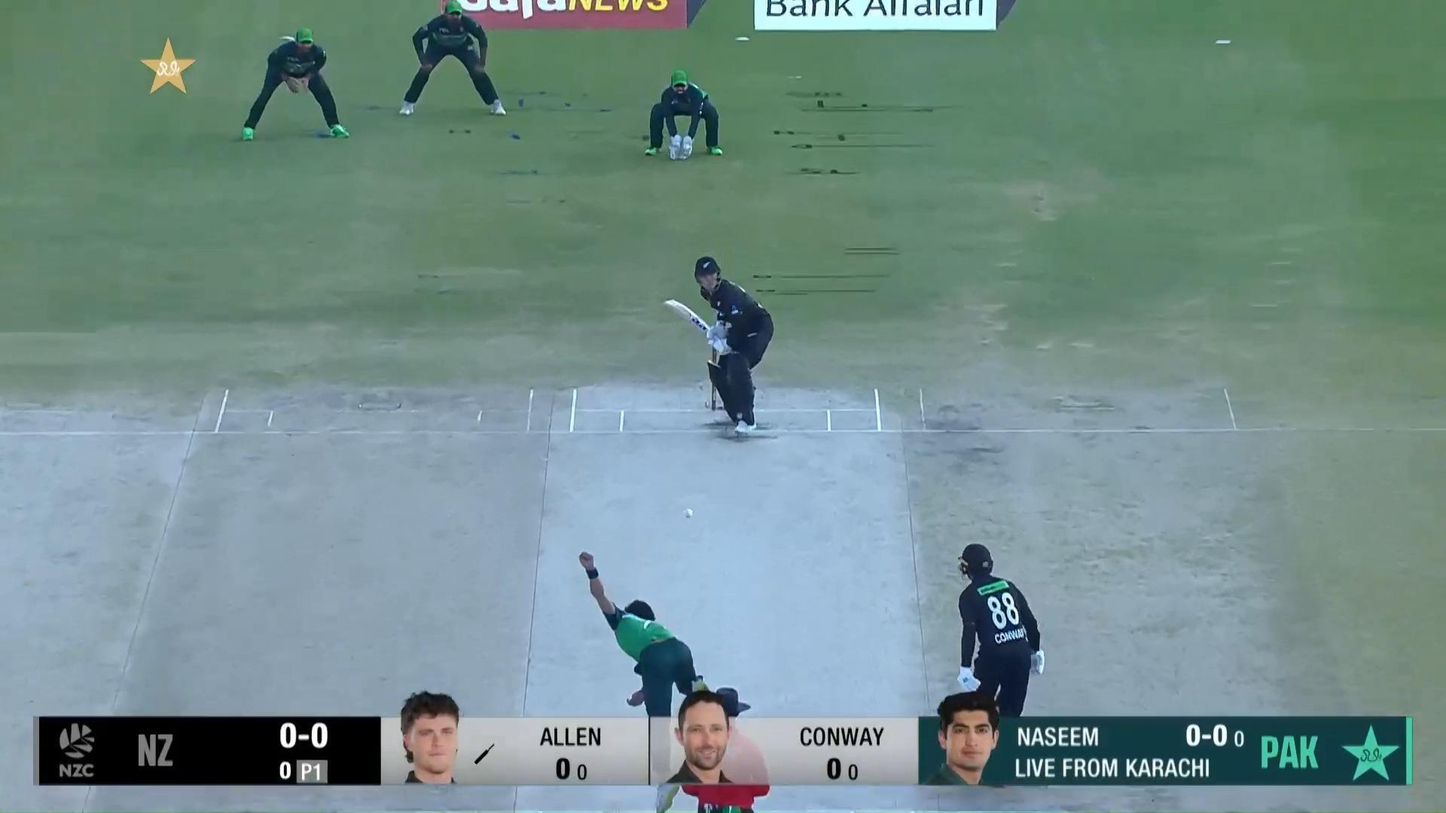BM 1: (662, 255, 774, 434)
BO: (579, 550, 711, 718)
